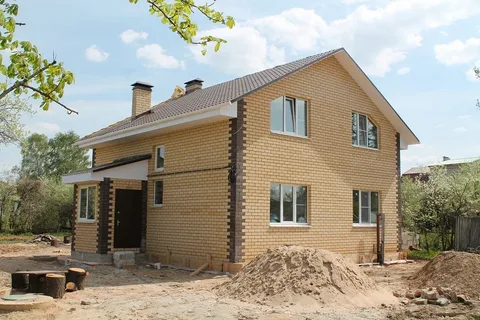private_hause: (82, 68, 409, 261)
